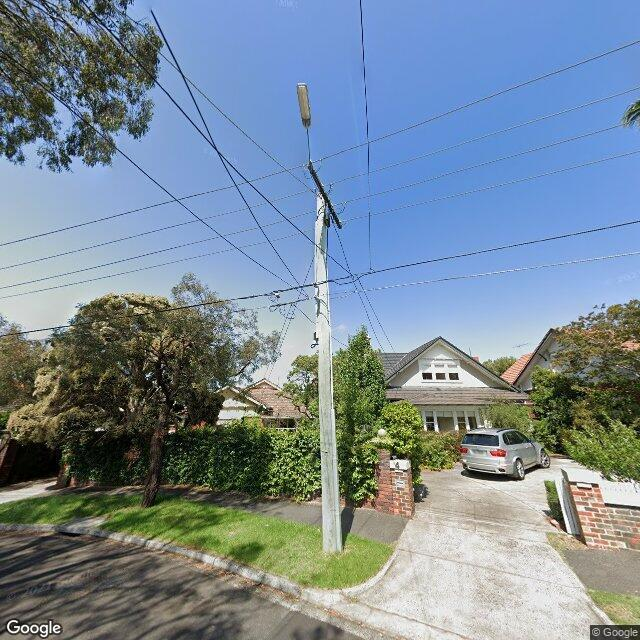crossarm: (309, 160, 342, 230)
streetlight: (296, 82, 312, 162)
timber-pole: (314, 193, 342, 555)
